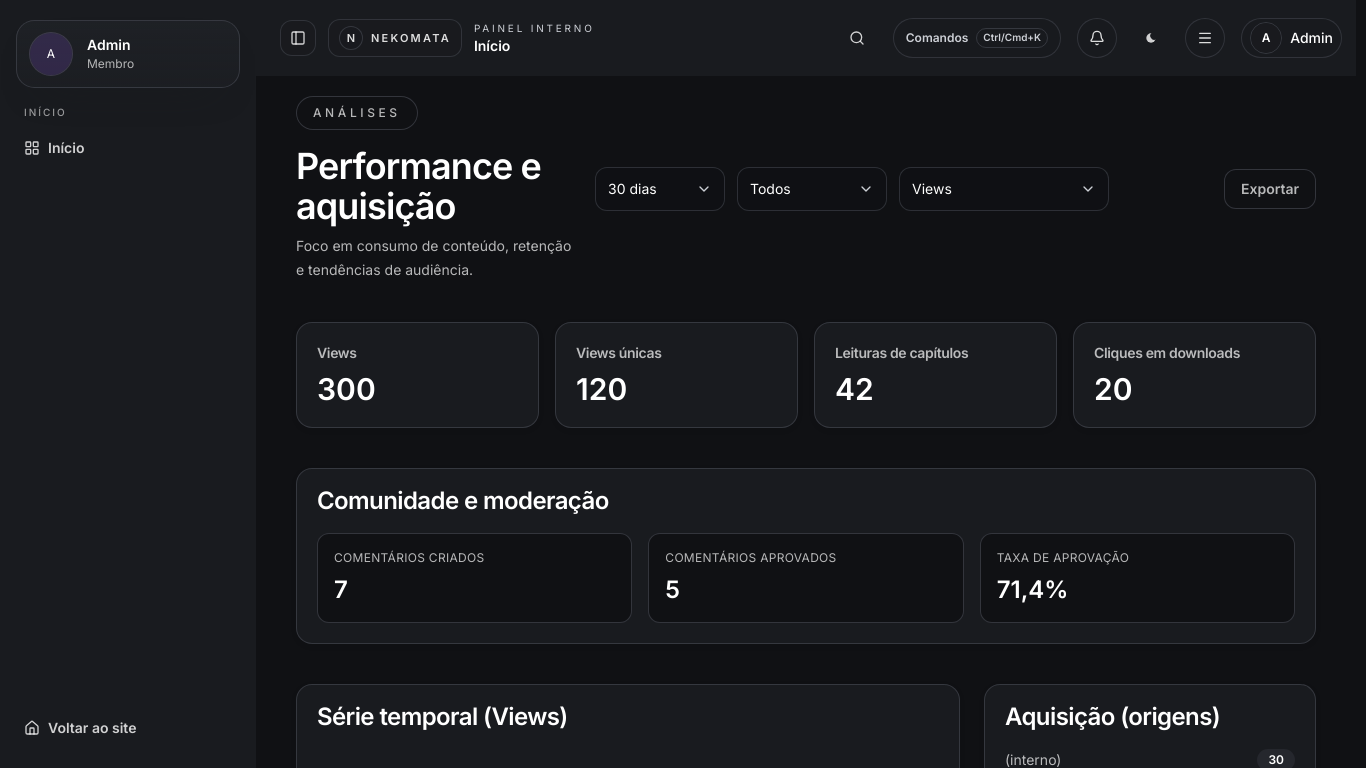
Scenario: DashboardAnalytics › preserva o ultimo snapshot quando o refresh falha para um novo filtro
Expected: the text "300" is shown, [317,371,376,407]
Click the dropdown labelled "30 dias".
click(660, 189)  # box [595,167,725,211]
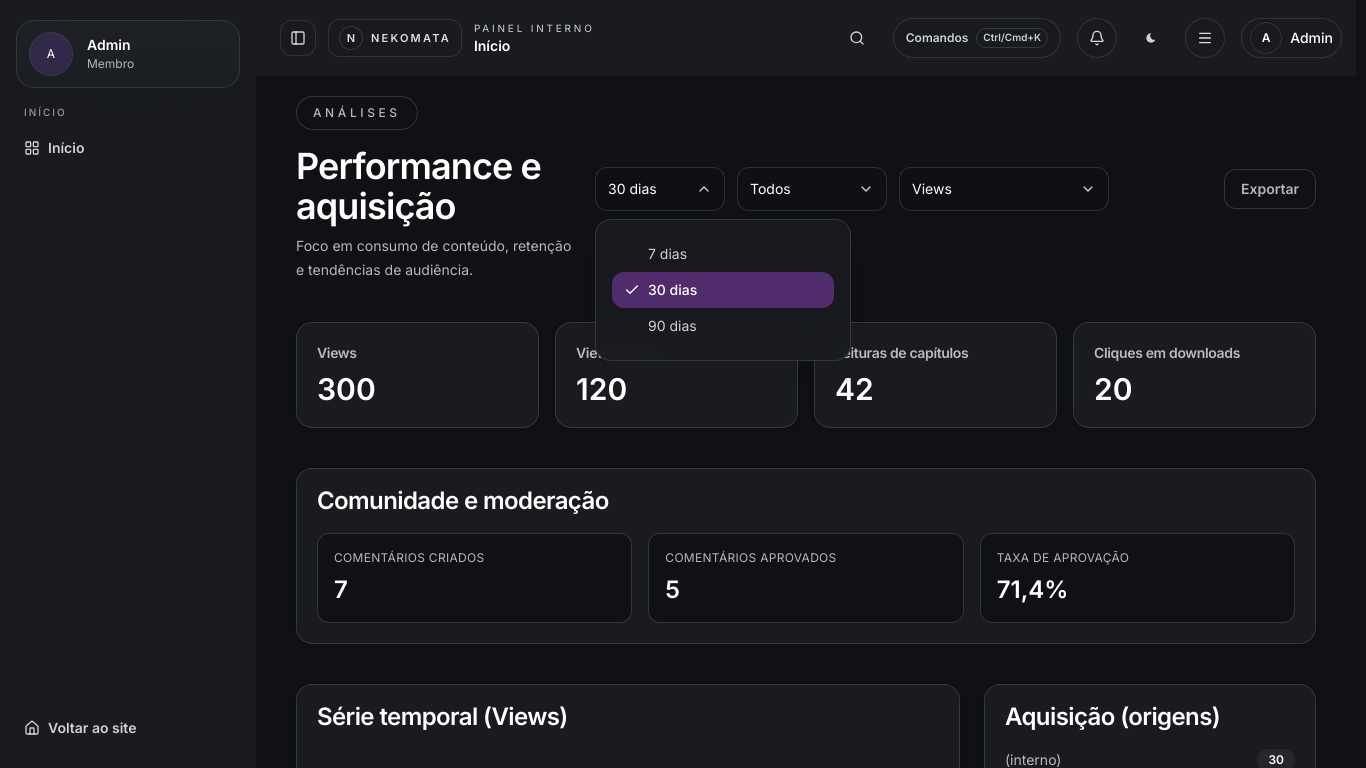
Click the option "7 dias".
click(723, 254)  # box [612,236,834,272]
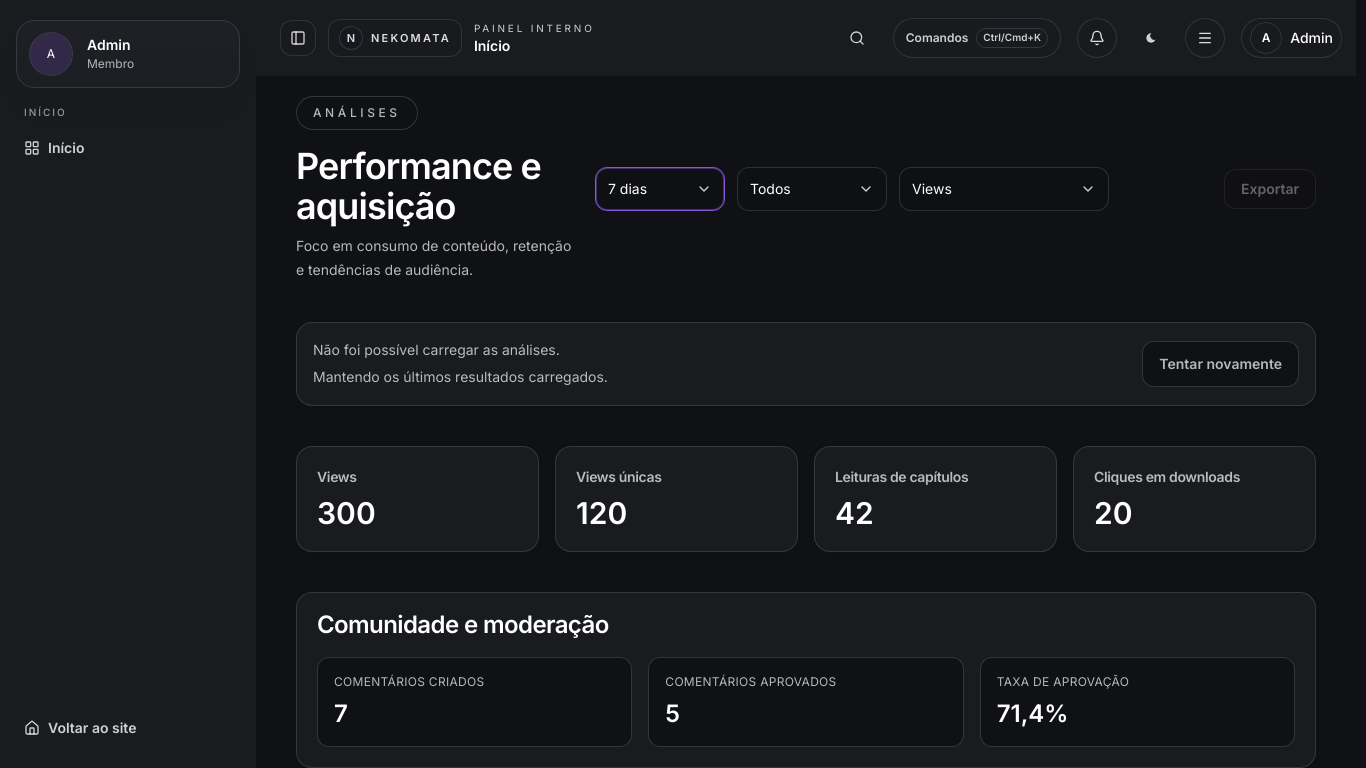
Expected: the text "300" is shown, [317,494,376,530]
Now the text "Mantendo os últimos resultados carregados." is shown, box [313,366,608,389]
Now the button "Exportar" is disabled, box [1224,169,1316,209]
